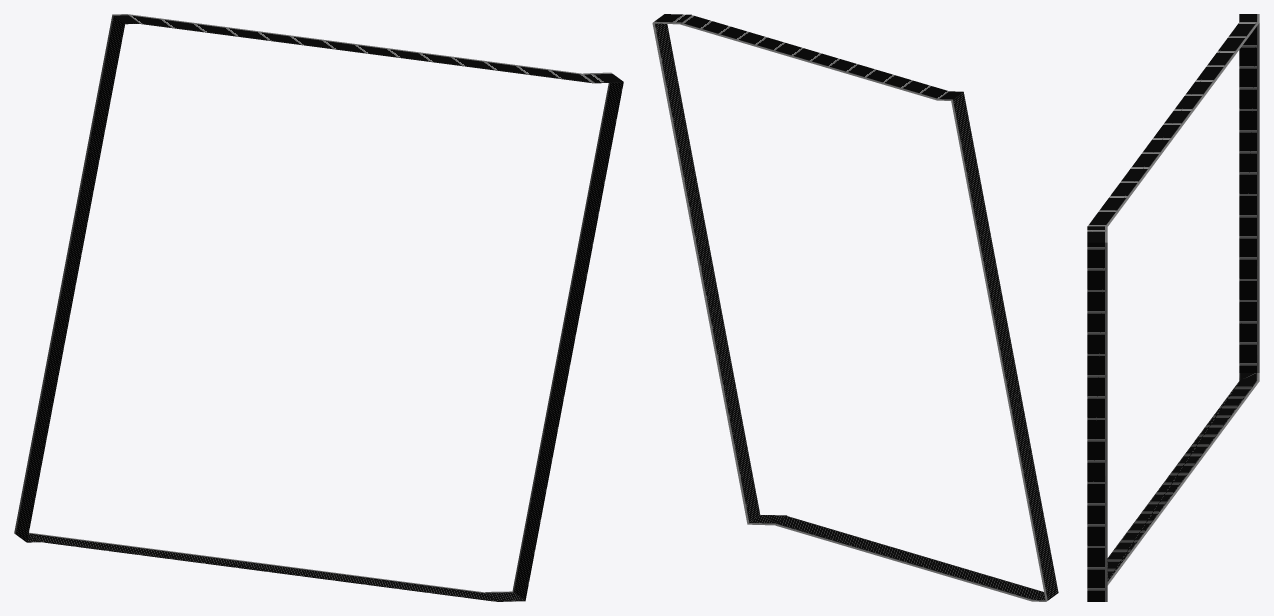
The model's file is _0TRIBUENE_02_014_SUB0_Scene.159.obj.
The picture shows the model from 3 angles, left to right: view 1: azimuth 30°, elevation 25°; view 2: azimuth 150°, elevation 25°; view 3: azimuth 270°, elevation 25°; orthographic projection. The views are drawn at different scales.
Visible parts, largest first — view 1: _0TRIBUENE_02_014_SUB0_Scene.159; view 2: _0TRIBUENE_02_014_SUB0_Scene.159; view 3: _0TRIBUENE_02_014_SUB0_Scene.159.
Boxes of the visible parts, <box> form: _0TRIBUENE_02_014_SUB0_Scene.159: <box>14,14,623,601</box>; _0TRIBUENE_02_014_SUB0_Scene.159: <box>652,14,1058,601</box>; _0TRIBUENE_02_014_SUB0_Scene.159: <box>1087,14,1259,601</box>.
Size of the model in its own units: 34.38 by 38.1 by 12.72.
